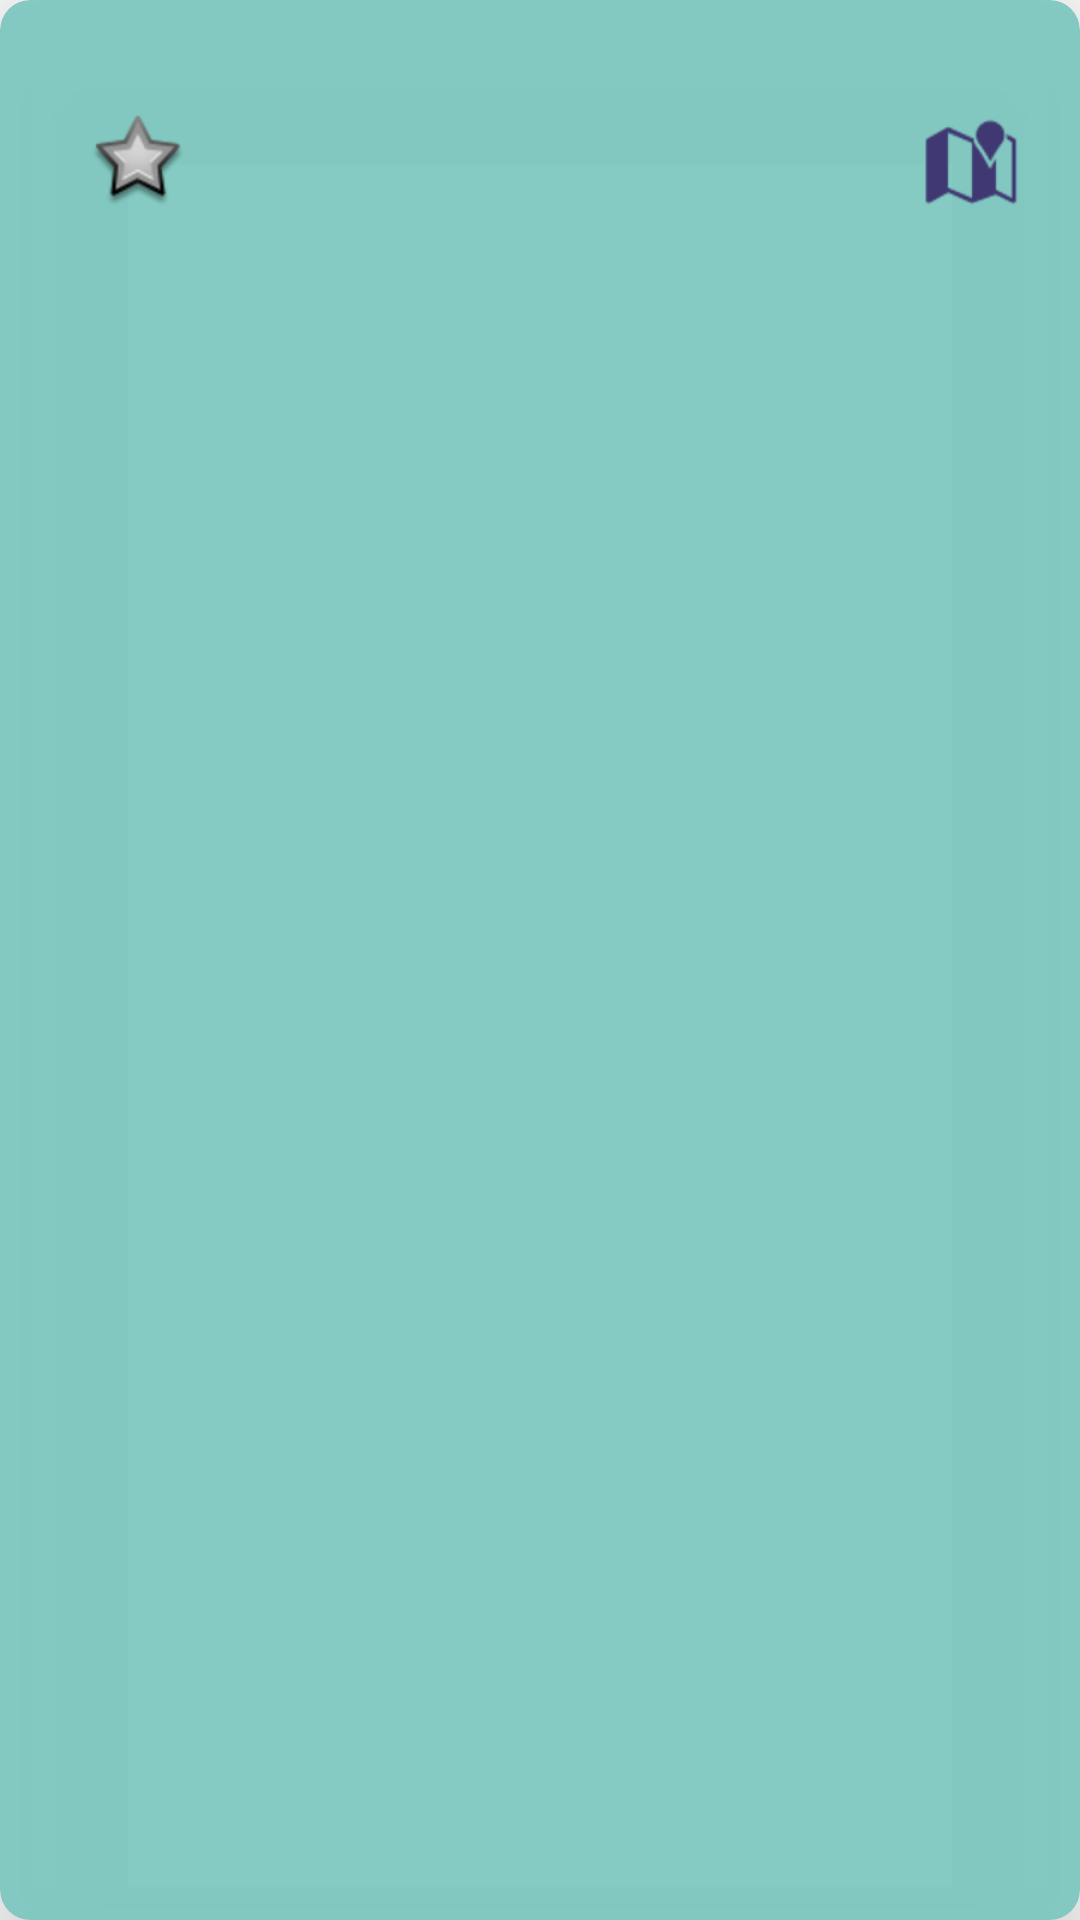

Screen size 1080 × 1920. Icon name, then its center in pixels as (x=x, y=y):
Show Map: (x=971, y=162)
star check: (x=138, y=159)
